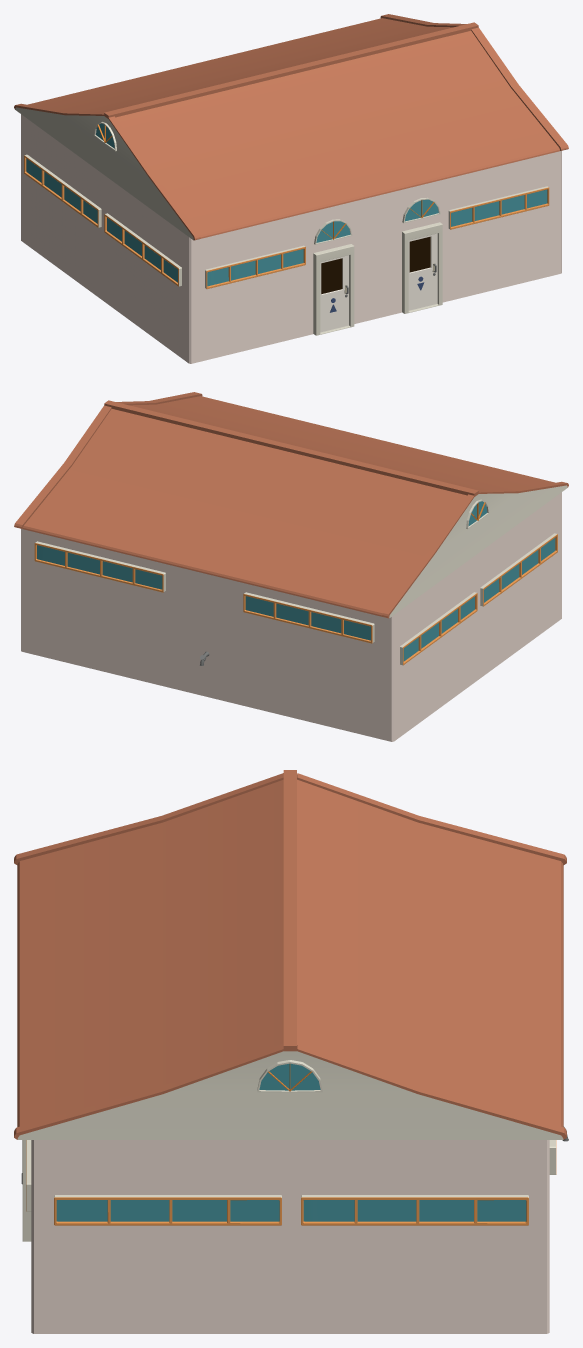
Rendered from M_Sem04_Environment_BathHouse_LODs_SBoewing.fbx.
The picture shows the model from 3 angles, top to bottom: view 1: azimuth 30°, elevation 25°; view 2: azimuth 150°, elevation 25°; view 3: azimuth 270°, elevation 25°; orthographic projection. The views are drawn at different scales.
Parts seen in each view (by area): view 1: bathhouse_LOD0; view 2: bathhouse_LOD0; view 3: bathhouse_LOD0.
Boxes of the visible parts, left/top/right/bottom form: bathhouse_LOD0: left=14, top=14, right=568, bottom=363; bathhouse_LOD0: left=14, top=392, right=568, bottom=741; bathhouse_LOD0: left=14, top=770, right=568, bottom=1333.
Size of what is drawn, in the model's own units: 1106 by 523 by 917.
